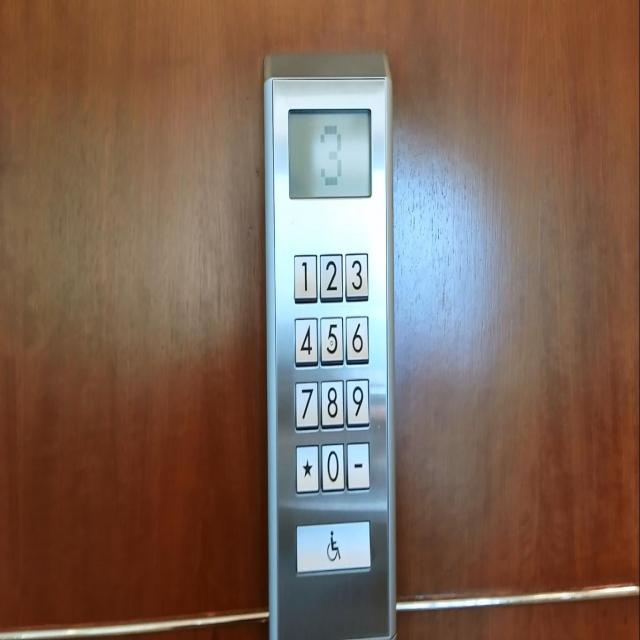-: (344, 438, 372, 494)
0: (319, 439, 346, 495)
1: (292, 250, 319, 306)
2: (318, 249, 344, 304)
3: (344, 249, 369, 304)
4: (293, 314, 319, 369)
5: (318, 314, 344, 368)
6: (344, 312, 370, 366)
7: (294, 378, 320, 432)
8: (318, 376, 344, 431)
9: (344, 374, 370, 429)
CH: (294, 518, 372, 578)
led: (285, 102, 373, 204)
s: (294, 442, 320, 496)
